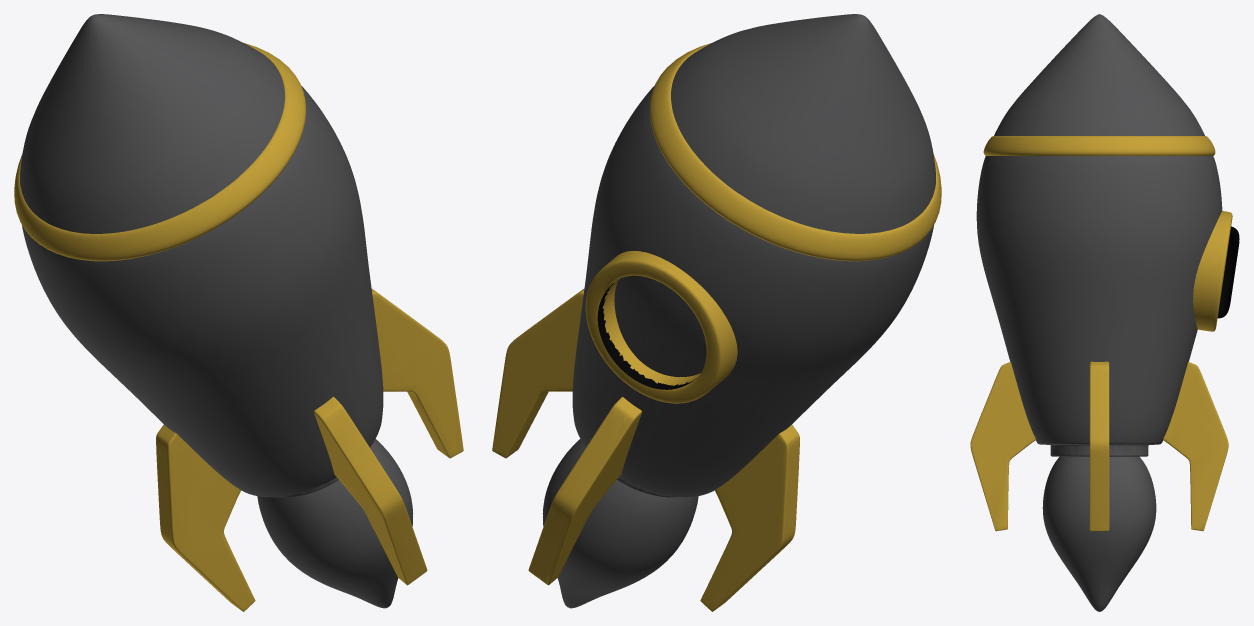
The model's file is rocket.glb.
The picture shows the model from 3 angles, left to right: view 1: azimuth 30°, elevation 25°; view 2: azimuth 150°, elevation 25°; view 3: azimuth 270°, elevation 25°; orthographic projection. The views are drawn at different scales.
Visible parts, largest first — view 1: Cylinder.009; view 2: Cylinder.009; view 3: Cylinder.009.
Boxes of the visible parts, x1,y1,x2,y2 form: Cylinder.009: (14,14,463,611); Cylinder.009: (492,14,941,611); Cylinder.009: (970,14,1239,611).
Bounding box in the file's own units: 1.17 × 1.76 × 0.8745.
